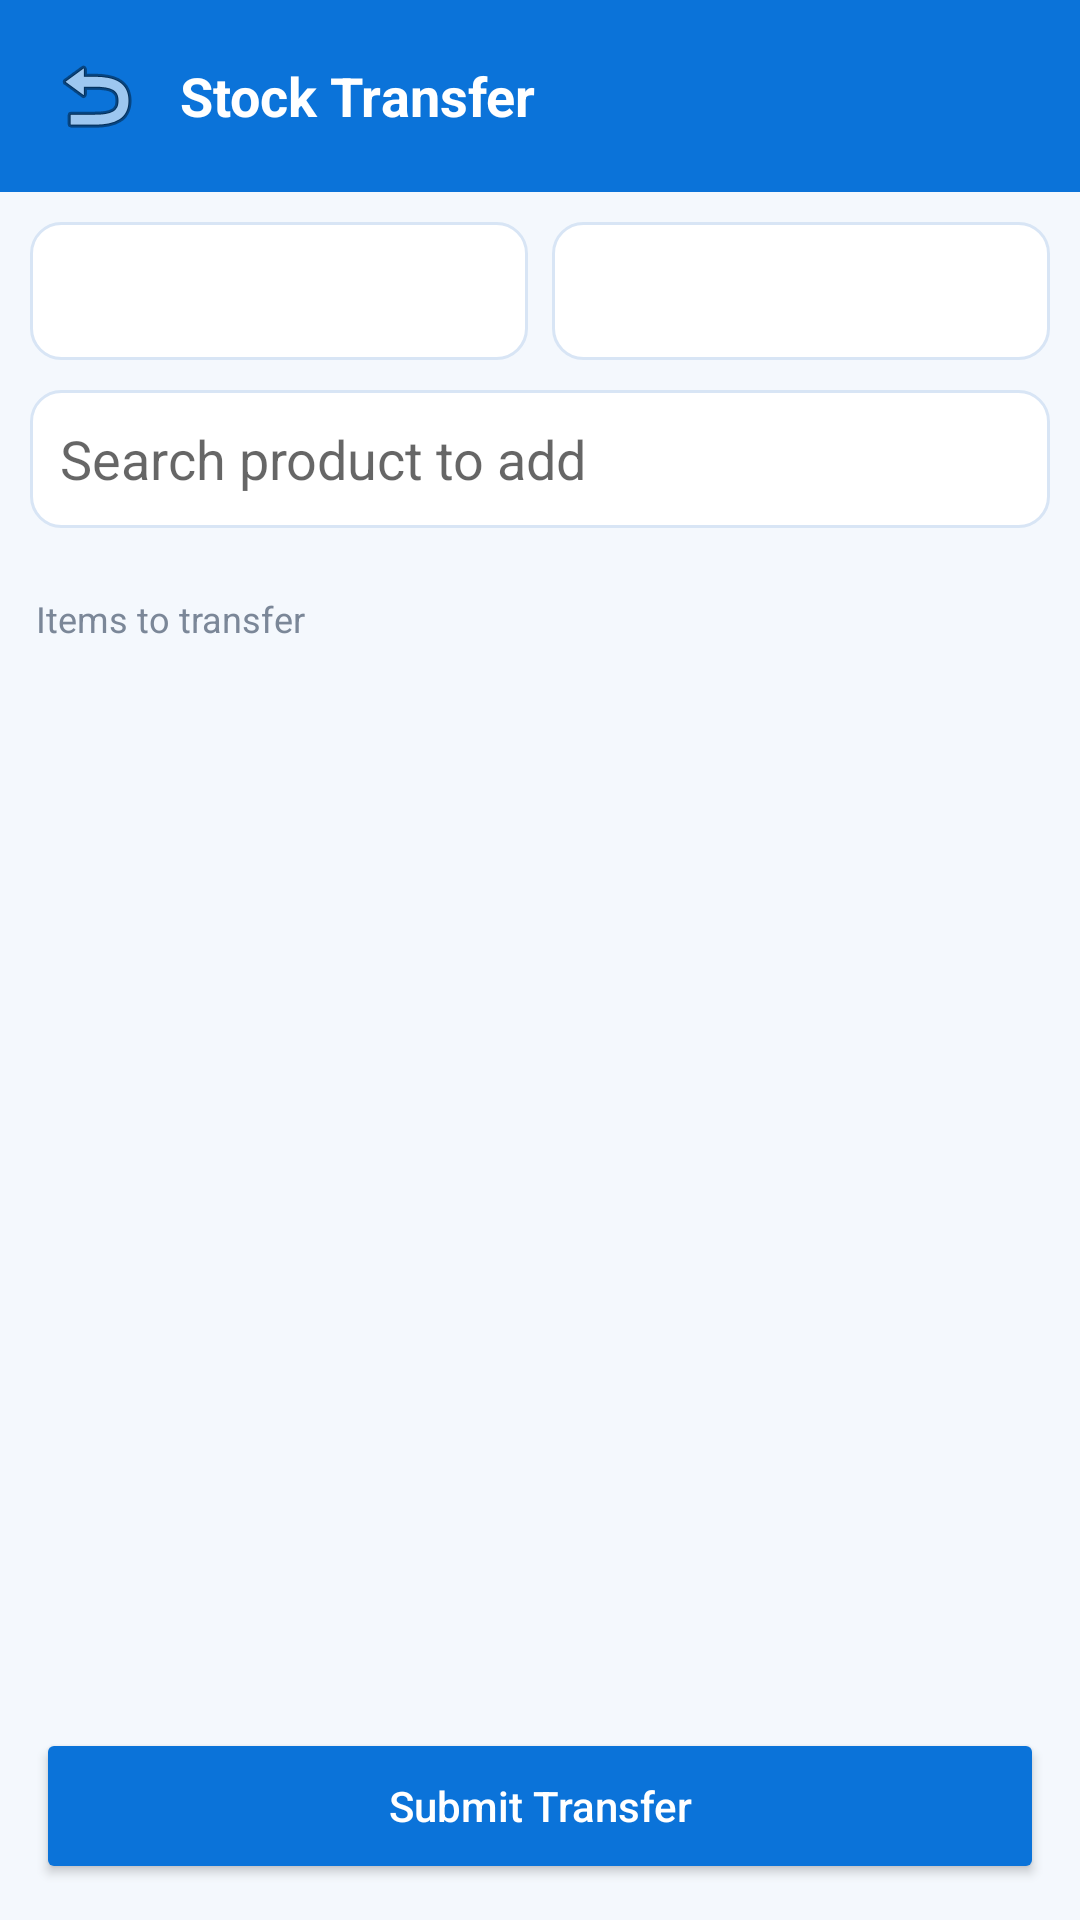

Point at icon controls on the screen. Image size 1080 × 1920, points as point (x, y).
Back: point (97, 96)
